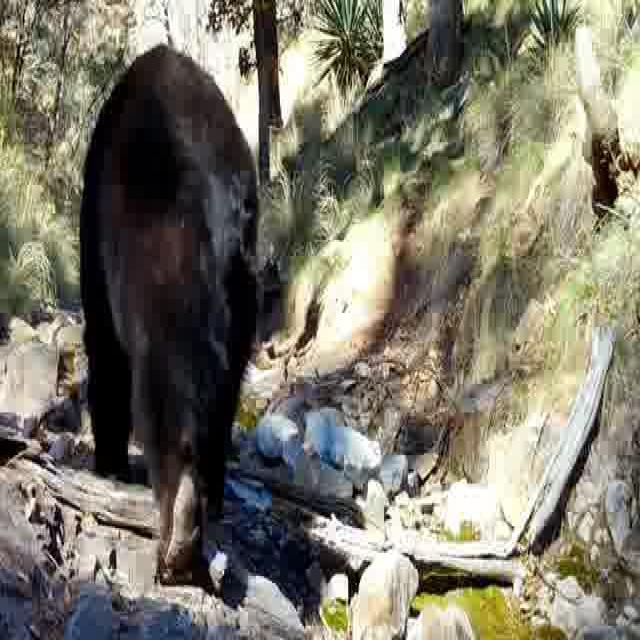bear face: (80, 43, 261, 585)
